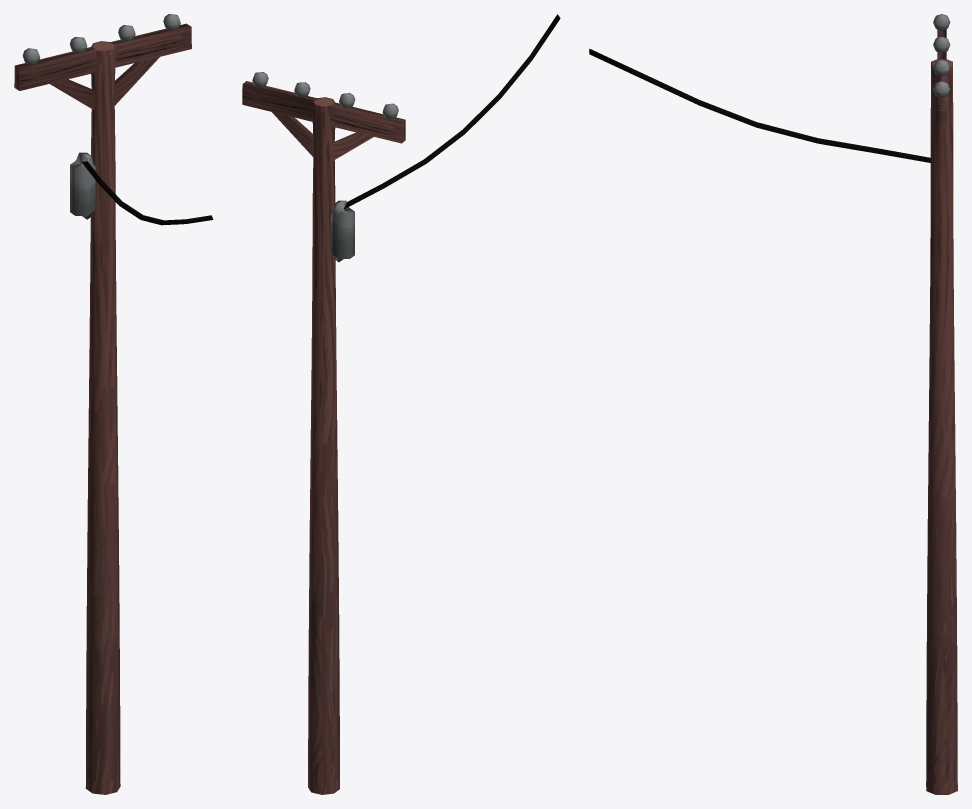
The model's file is TelephonePole.gltf.
3 renders of one model, left to right at view 1: azimuth 30°, elevation 25°; view 2: azimuth 150°, elevation 25°; view 3: azimuth 270°, elevation 25°, orthographic. The views are drawn at different scales.
Visible parts, largest first — view 1: TelephonePole; view 2: TelephonePole; view 3: TelephonePole.
Part boxes in pixels (x1,y1,x2,y2): TelephonePole: (14,14,213,794); TelephonePole: (242,14,560,794); TelephonePole: (589,14,957,794).
Size of the model in its own units: 4.35 by 18.22 by 8.23.
Materials: 1 (1 with a texture image).
